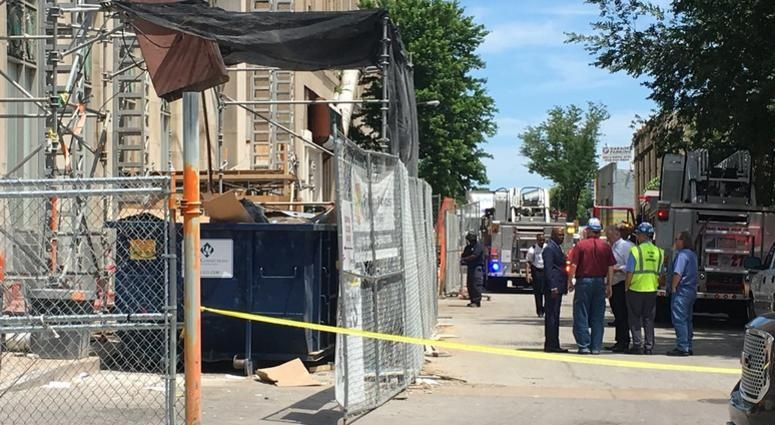blue: (636, 221, 654, 244), (586, 218, 601, 238)
none: (674, 229, 691, 249), (604, 224, 620, 243), (550, 226, 566, 245), (536, 232, 545, 245)
